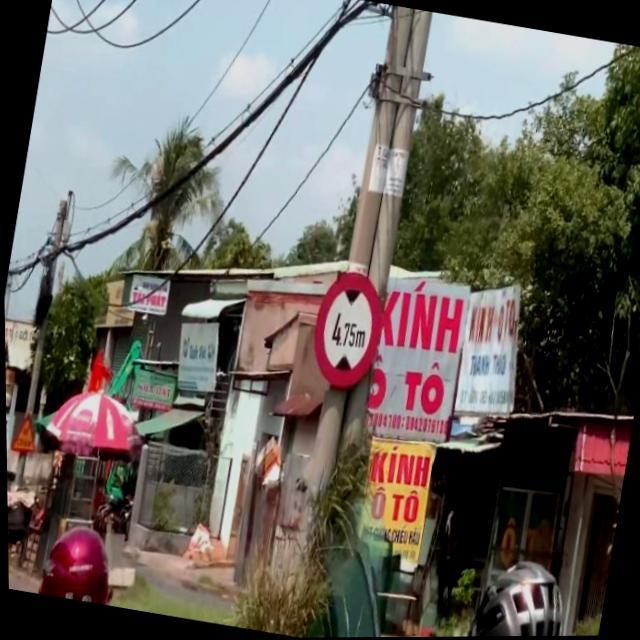Di cham: (7, 406, 42, 456)
Han che chieu cao: (301, 262, 393, 397)
